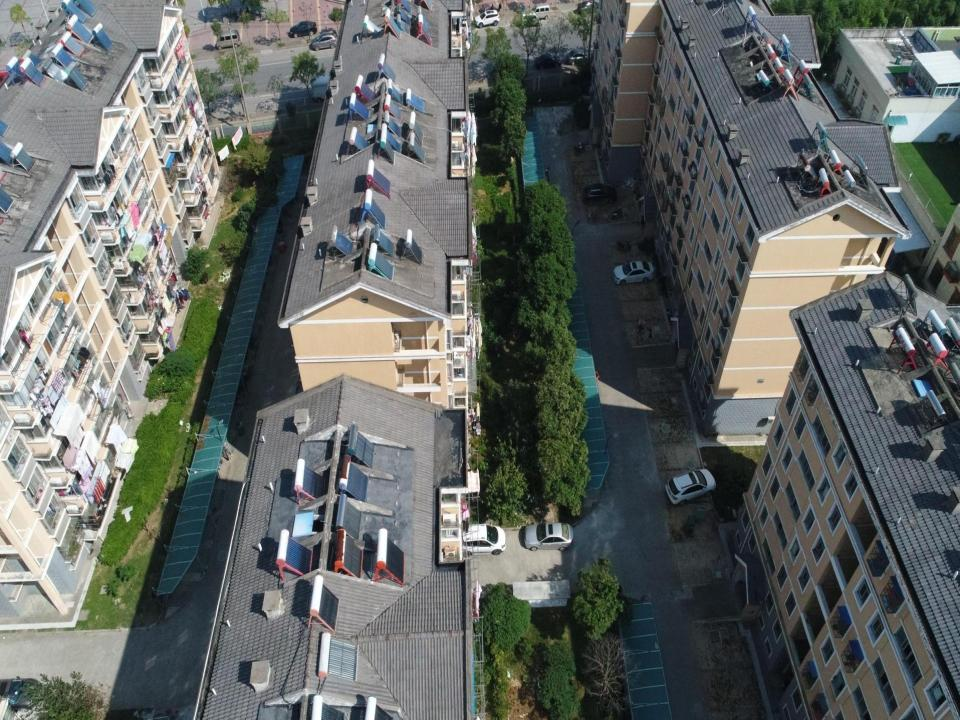car: (665, 468, 716, 506), (0, 676, 45, 716), (455, 523, 506, 556), (523, 522, 574, 552), (612, 260, 655, 286), (582, 182, 618, 204), (565, 48, 598, 66), (474, 9, 500, 29), (534, 52, 562, 70), (311, 34, 338, 52), (289, 20, 317, 37), (576, 0, 602, 16), (318, 28, 339, 38)
van: (310, 75, 342, 102), (215, 29, 240, 51), (520, 12, 540, 30), (531, 3, 550, 20)
